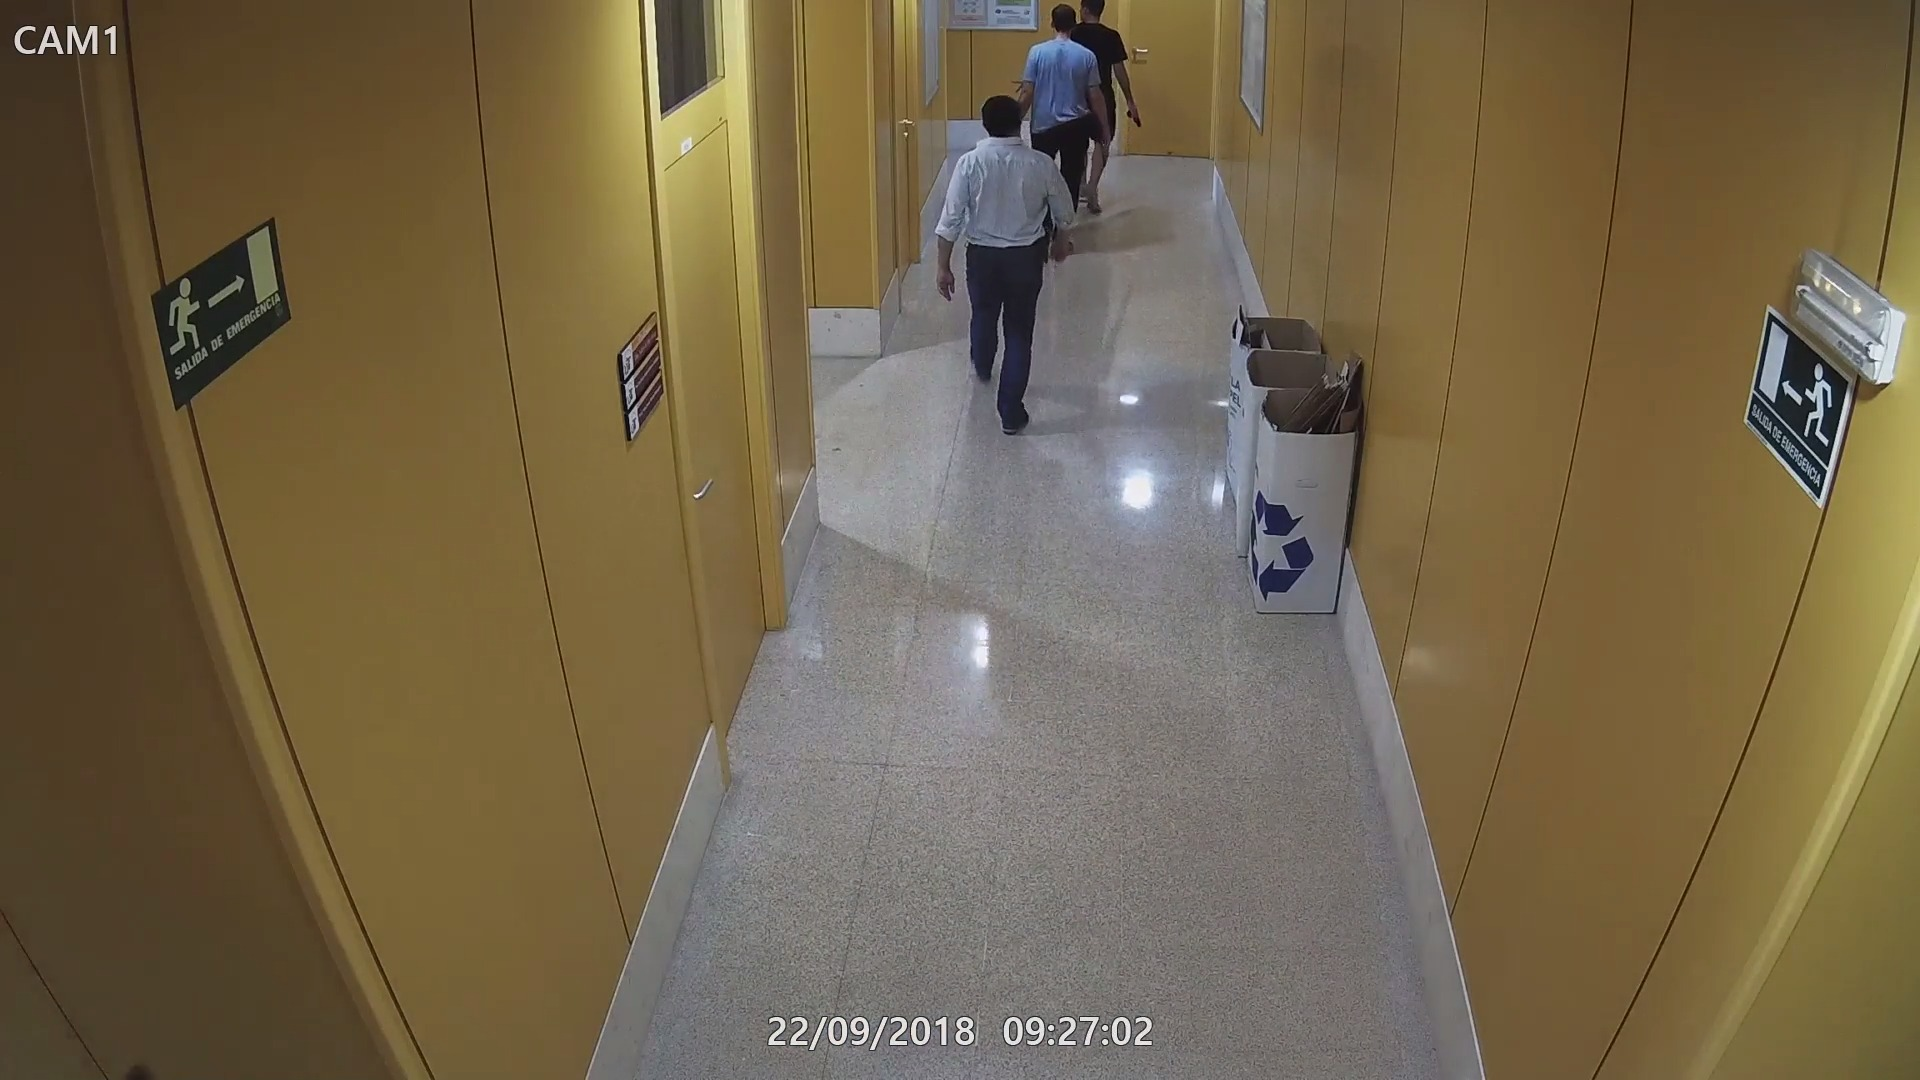Handgun: (1092, 124, 1118, 167), (1120, 103, 1147, 129)
